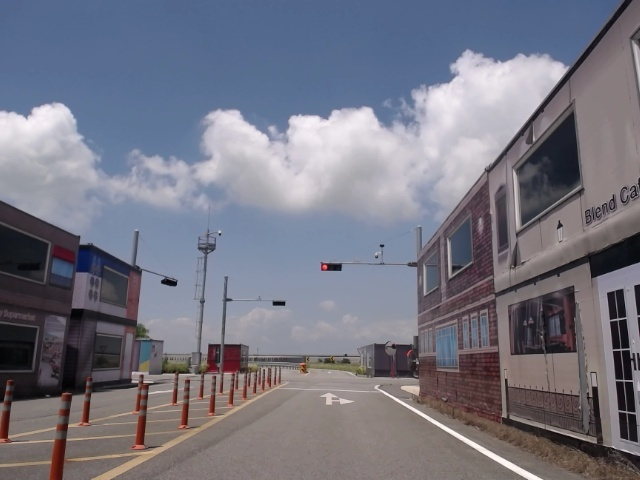red_3: (319, 262, 344, 271)
